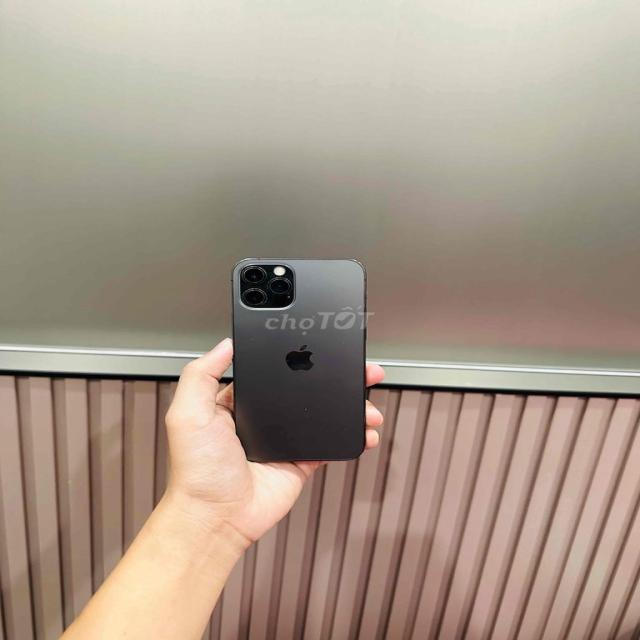gen_12_13: (226, 258, 366, 467)
